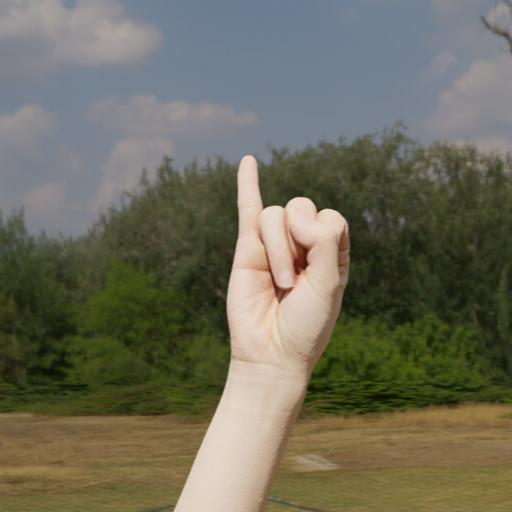I: (214, 147, 356, 395)
